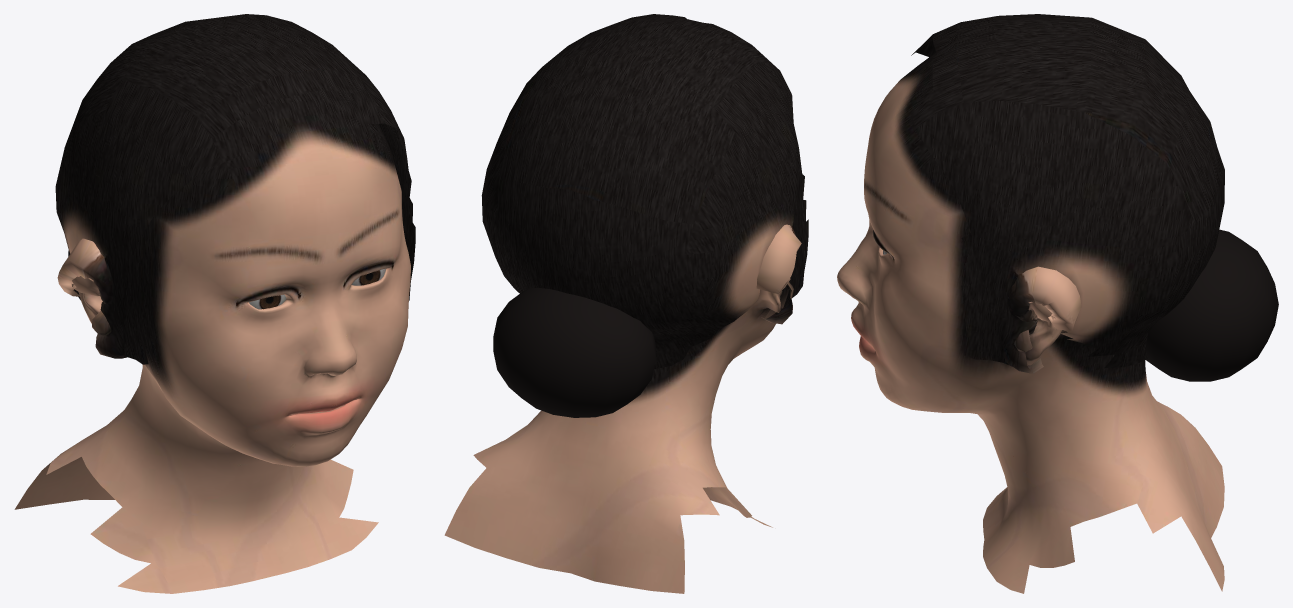
Rendered from head_yuan.glb.
The picture shows the model from 3 angles, left to right: view 1: azimuth 30°, elevation 25°; view 2: azimuth 150°, elevation 25°; view 3: azimuth 270°, elevation 25°; orthographic projection. The views are drawn at different scales.
Visible parts, largest first — view 1: mixamorigHead__head, mixamorigHead__hair, mixamorigHead__eyes; view 2: mixamorigHead__hair, mixamorigHead__head; view 3: mixamorigHead__hair, mixamorigHead__head.
Part boxes in pixels (x1,y1,x2,y2): mixamorigHead__head: [14, 90, 410, 593]; mixamorigHead__hair: [55, 14, 415, 364]; mixamorigHead__eyes: [249, 268, 386, 309]; mixamorigHead__hair: [481, 14, 808, 417]; mixamorigHead__head: [444, 288, 788, 593]; mixamorigHead__hair: [910, 14, 1278, 381]; mixamorigHead__head: [837, 52, 1224, 593].
Size of the model in its own units: 18.56 by 27.43 by 21.35.
Materials: 2 (2 with a texture image).
